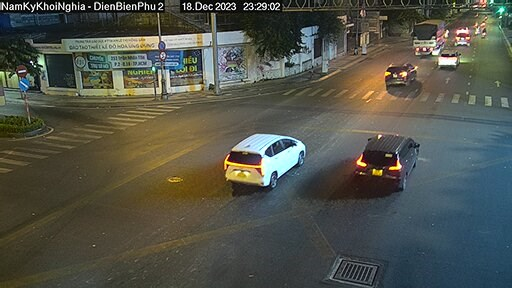car: (223, 125, 314, 202), (348, 123, 416, 197), (381, 57, 419, 91), (438, 47, 461, 71)
truck: (411, 14, 449, 57)
